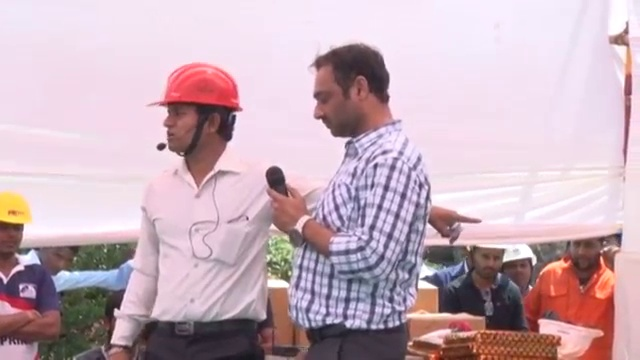helmet: (141, 60, 244, 113), (538, 317, 604, 358), (0, 195, 39, 230), (503, 247, 538, 268)
helmet_off: (306, 43, 395, 134), (101, 292, 140, 345), (32, 244, 77, 282), (568, 236, 608, 276), (471, 243, 509, 283)
helmet_on: (138, 63, 244, 171), (0, 194, 38, 259), (503, 246, 537, 291)
person: (265, 28, 448, 360), (97, 54, 281, 360), (0, 193, 62, 360), (532, 236, 615, 355), (437, 244, 524, 330), (73, 287, 147, 360), (498, 241, 545, 325)
